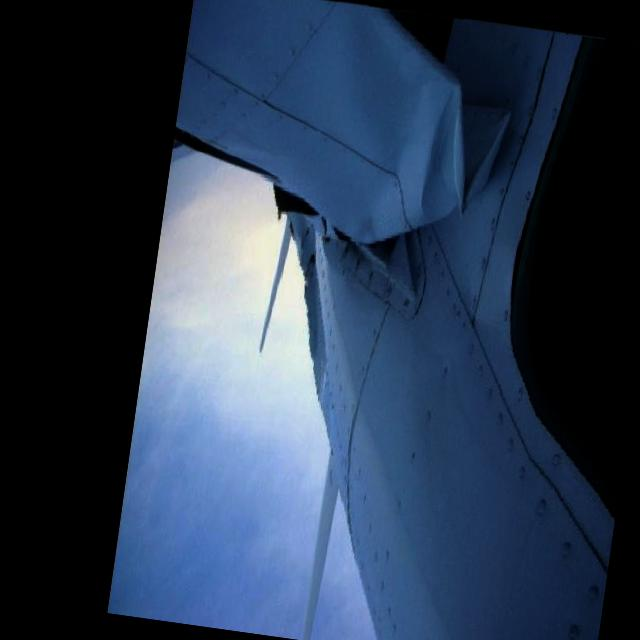dent: (404, 73, 522, 228)
